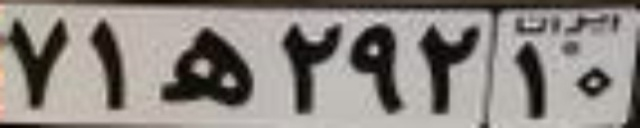0: (574, 65, 613, 97)
1: (87, 18, 125, 109), (510, 41, 546, 118)
2: (417, 24, 481, 114), (282, 20, 342, 115)
7: (5, 16, 70, 109)
9: (347, 22, 405, 113)
he: (153, 28, 257, 105)
